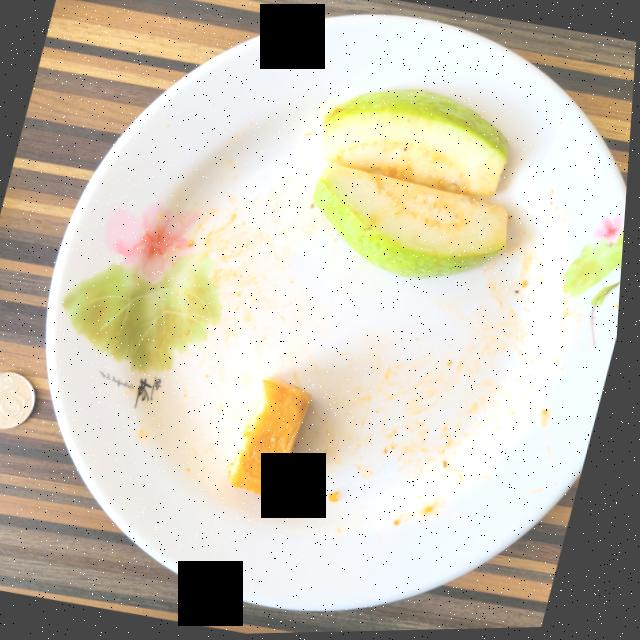coin: (0, 372, 41, 430)
creamy tofu: (235, 378, 317, 498)
guava -sliced-: (316, 92, 511, 279)
